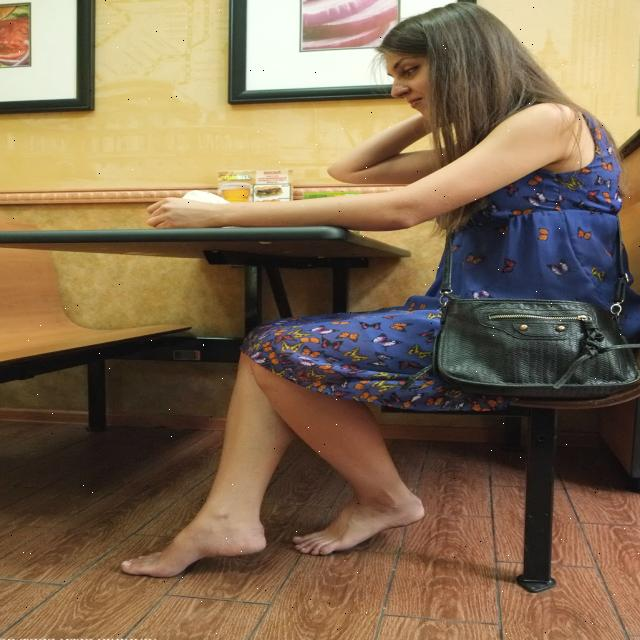No Safety Boots: (292, 492, 424, 556), (120, 524, 267, 578)
